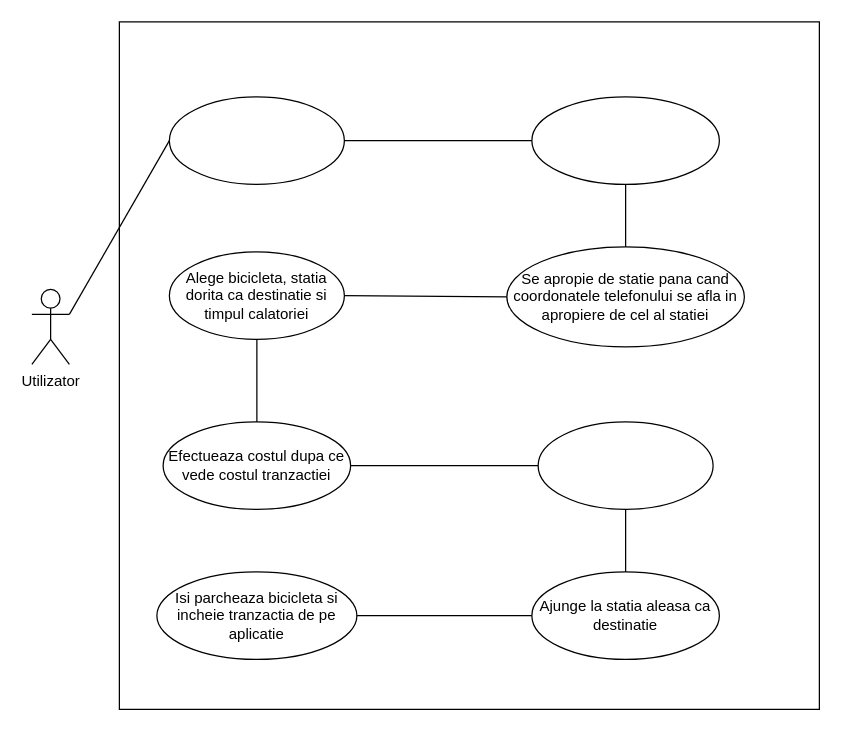
Some shapes in this 841 by 731 pixel diagram are drawn without their labels. The centre of each missing label's shape, as x and y in pixels:
"Calatoreste cu bicicleta aleasa" goes at [625,465].
"Gaseste pe harta o statie apropiata unde se va duce" goes at [625,140].
"Porneste aplicatia si se autentifica" goes at [256,140].
